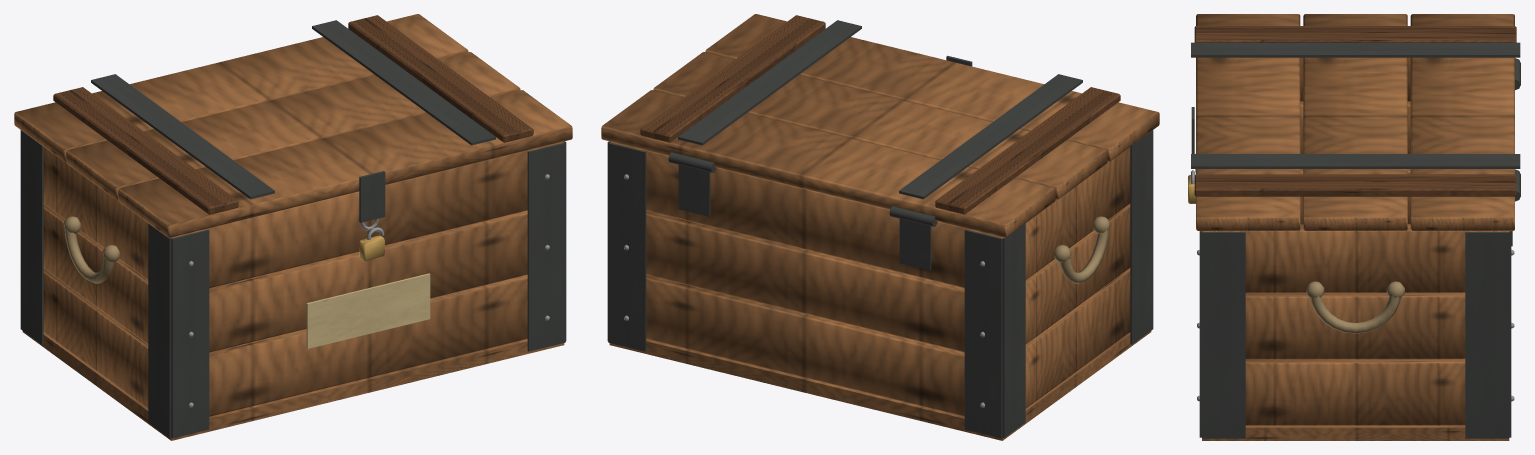
Rendered from OB_Skrytka.fbx.
3 renders of one model, left to right at view 1: azimuth 30°, elevation 25°; view 2: azimuth 150°, elevation 25°; view 3: azimuth 270°, elevation 25°, orthographic. The views are drawn at different scales.
Visible parts, largest first — view 1: Skrzynka, Wieko; view 2: Skrzynka, Wieko; view 3: Wieko, Skrzynka.
Part boxes in pixels (x1,y1,x2,y2): Skrzynka: (20, 130, 566, 440); Wieko: (14, 14, 572, 237); Skrzynka: (607, 130, 1153, 440); Wieko: (601, 14, 1159, 237); Wieko: (1191, 14, 1520, 230); Skrzynka: (1188, 57, 1520, 440).
Size of the model in its own units: 0.6807 by 0.358 by 0.455.
